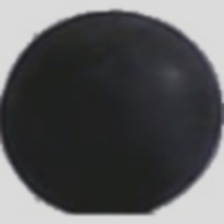grapes: (21, 40, 209, 212)
